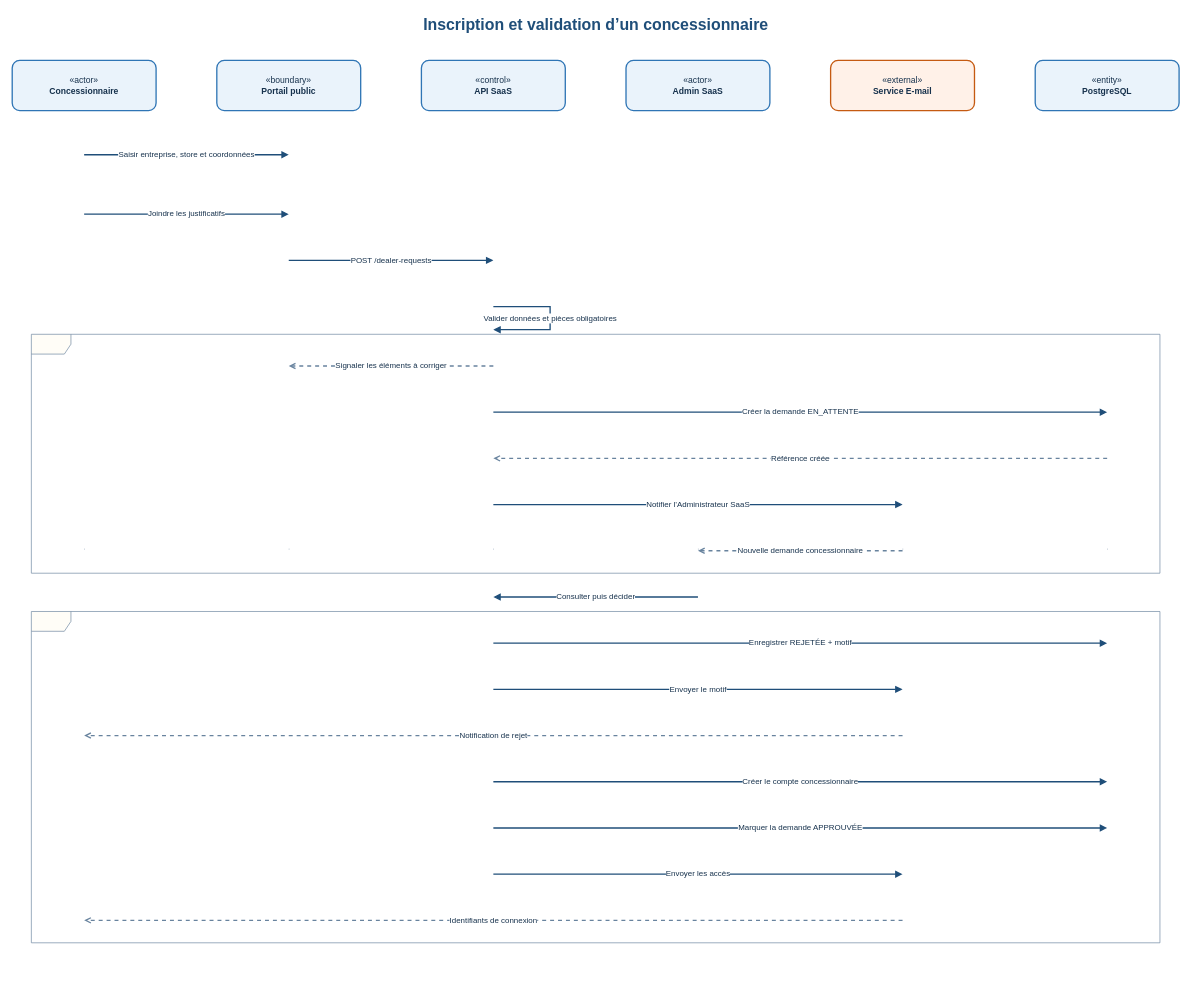
Image size: 1191x999. Some labels were removed from this diagram. The shapes that lost their labels are listed below. From the top down, each one's centre as x and y in pixels, then its label:
At pixel 595 453: "alt [dossier incomplet]".
At pixel 595 777: "alt [rejet]".
